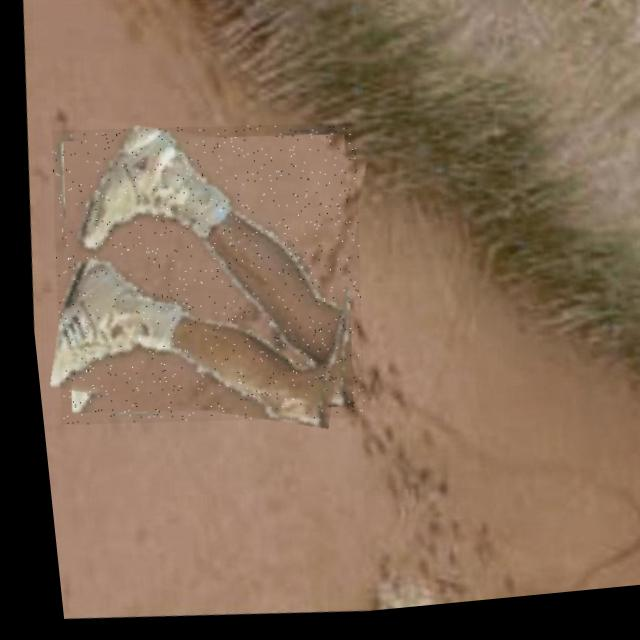Person in Rubble: (26, 108, 374, 446)
